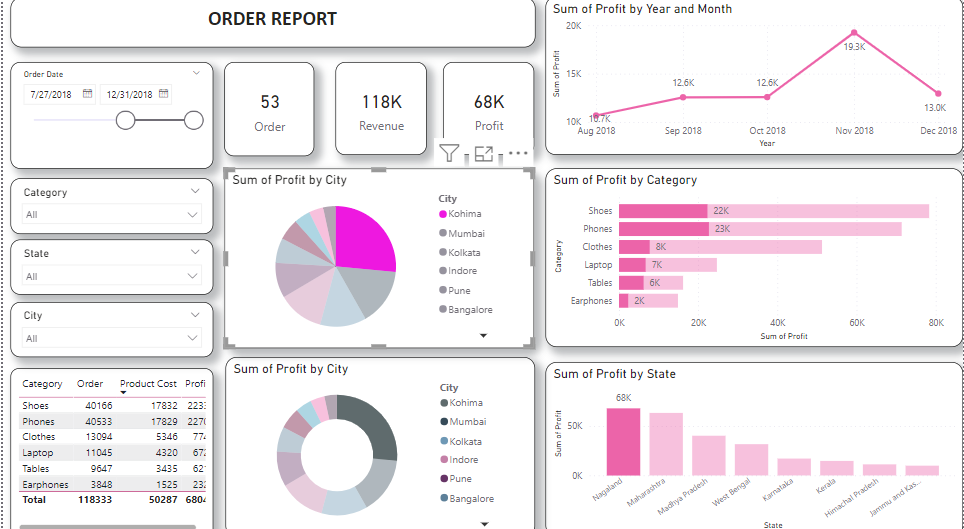

This screenshot's page, from the dashboard's own definition file:
{"tool":"powerbi","page":{"name":"Page 1","canvas":[1280,720],"ordinal":0},"visuals":[{"type":"textbox","box":[10,0,700,67.1],"z":0},{"type":"card","fields":{"Values":["CountNonNull(Orders.Order ID)"]},"box":[295.7,87.1,120,125.7],"z":1000},{"type":"card","fields":{"Values":["Sum(Orders.order_total)"]},"box":[442.9,87.1,121.4,124.3],"z":2000},{"type":"card","fields":{"Values":["Sum(Orders.Profit)"]},"box":[587.1,87.1,121.4,124.3],"z":3000},{"type":"tableEx","fields":{"Values":["Orders.Category","Sum(Orders.order_total)","Sum(Orders.Product cost)","Sum(Orders.Profit)"]},"box":[10,495,270,225],"z":4000},{"type":"lineChart","fields":{"Category":["Orders.Order Date.Variation.Date Hierarchy.Year","Orders.Order Date.Variation.Date Hierarchy.Month"],"Y":["Sum(Orders.Profit)"]},"box":[722.9,0,557.1,210],"z":5000},{"type":"clusteredBarChart","fields":{"Y":["Sum(Orders.Profit)"],"Category":["Orders.Category"]},"box":[722.9,228.6,557.1,238.6],"z":6000},{"type":"clusteredColumnChart","fields":{"Y":["Sum(Orders.Profit)"],"Category":["Orders.State"]},"box":[722.9,487.1,557.1,232.9],"z":6001},{"type":"pieChart","fields":{"Category":["Orders.City"],"Y":["Sum(Orders.Profit)"]},"box":[295.7,228.6,412.9,240],"z":6002},{"type":"donutChart","fields":{"Category":["Orders.City"],"Y":["Sum(Orders.Profit)"]},"box":[297.1,480,412.9,240],"z":6003},{"type":"slicer","fields":{"Values":["Orders.Order Date"]},"box":[10,87,270,142],"z":6004},{"type":"slicer","fields":{"Values":["Orders.Category"]},"box":[10,241.7,270,74.2],"z":6005},{"type":"slicer","fields":{"Values":["Orders.State"]},"box":[10,323.3,270,73.3],"z":6006},{"type":"slicer","fields":{"Values":["Orders.City"]},"box":[10,406.7,270,73.3],"z":6007}]}

Visuals, with their boxes in screenshot pixels (x1, y1, x2, y2), scaled from the page's 1280x720 canvas onto the 964x529 screenshot:
textbox: left=8, top=0, right=535, bottom=49
card - CountNonNull(Orders.Order ID): left=223, top=64, right=313, bottom=156
card - Sum(Orders.order_total): left=334, top=64, right=425, bottom=155
card - Sum(Orders.Profit): left=442, top=64, right=534, bottom=155
tableEx - Orders.Category x Sum(Orders.order_total): left=8, top=364, right=211, bottom=528
lineChart - Orders.Order Date.Variation.Date Hierarchy.Year x Orders.Order Date.Variation.Date Hierarchy.Month: left=544, top=0, right=963, bottom=154
clusteredBarChart - Sum(Orders.Profit) x Orders.Category: left=544, top=168, right=963, bottom=343
clusteredColumnChart - Sum(Orders.Profit) x Orders.State: left=544, top=358, right=963, bottom=528
pieChart - Orders.City x Sum(Orders.Profit): left=223, top=168, right=534, bottom=344
donutChart - Orders.City x Sum(Orders.Profit): left=224, top=353, right=535, bottom=528
slicer - Orders.Order Date: left=8, top=64, right=211, bottom=168
slicer - Orders.Category: left=8, top=178, right=211, bottom=232
slicer - Orders.State: left=8, top=238, right=211, bottom=291
slicer - Orders.City: left=8, top=299, right=211, bottom=353
